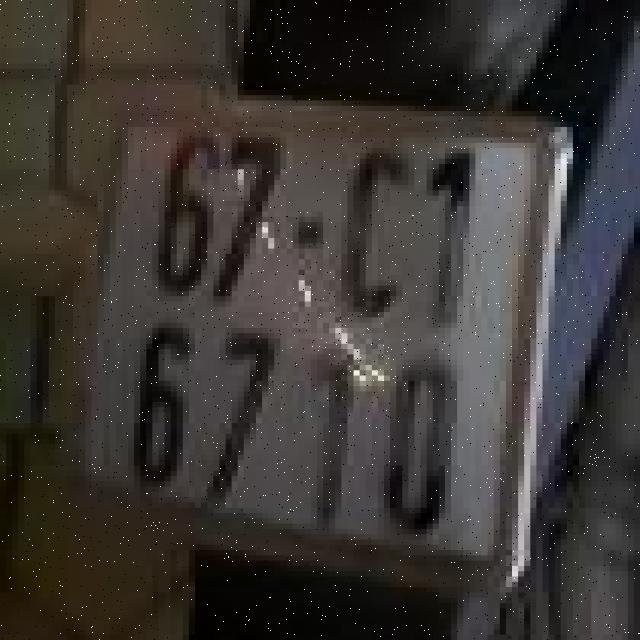0: (370, 348, 460, 550)
1: (286, 337, 366, 531), (408, 148, 484, 335)
6: (143, 129, 226, 307), (125, 316, 200, 495)
7: (200, 132, 294, 316), (197, 321, 283, 513)
C: (335, 143, 420, 326)
